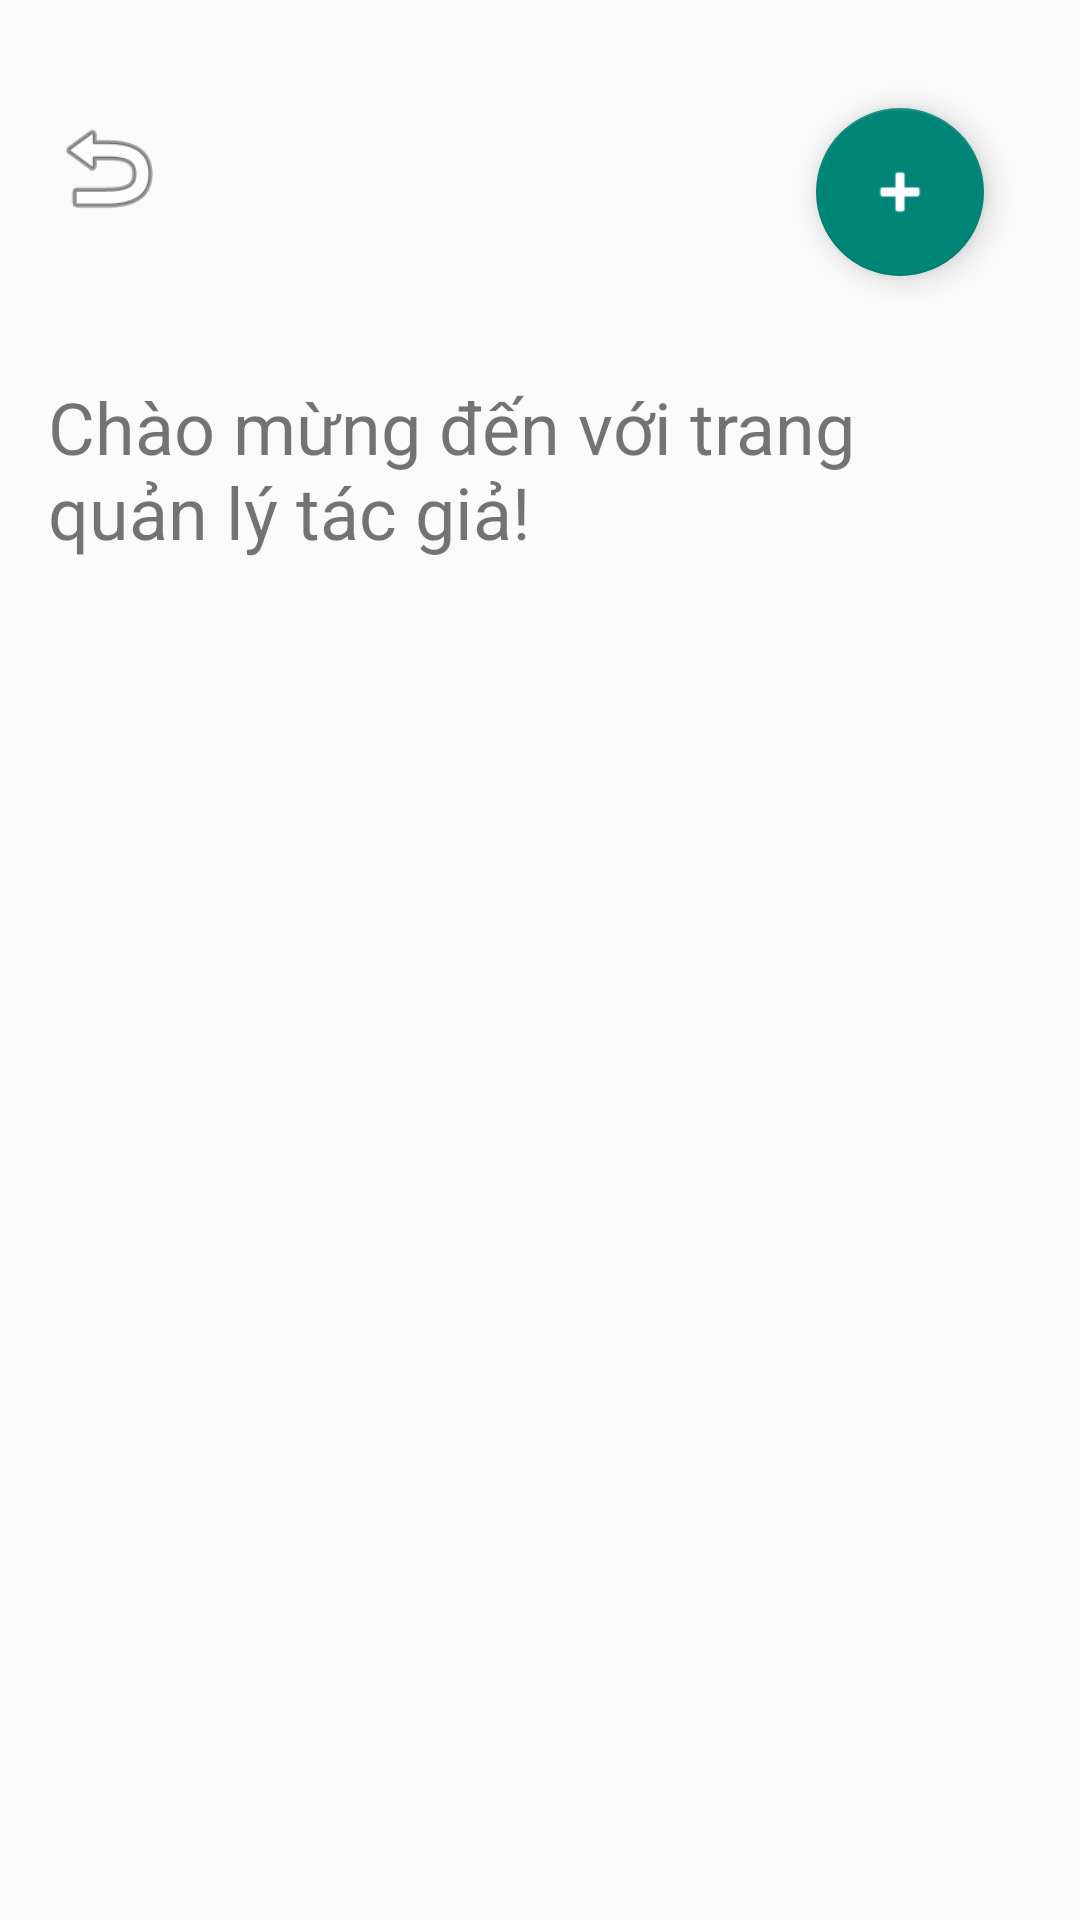

Named icons in this screenshot (1080x1920) and their bounding boxes, detection(x1, y1, x2, y2):
revert: detection(66, 130, 153, 208)
Thêm tác giả: detection(816, 108, 984, 276)
